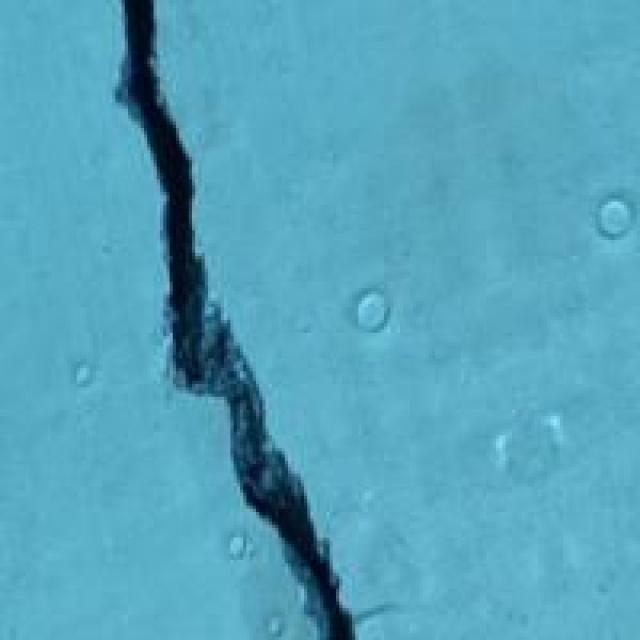Crack: (86, 0, 445, 637)
